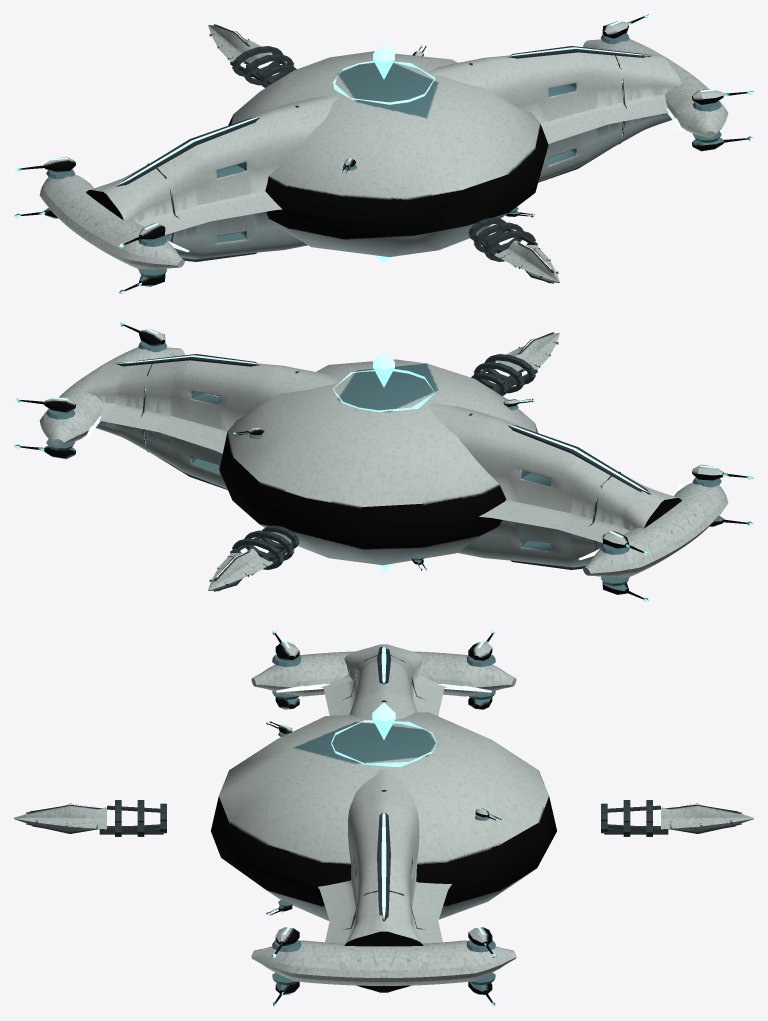
File: Avanti_Shipyard_T1.fbx
3 renders of one model, top to bottom at view 1: azimuth 30°, elevation 25°; view 2: azimuth 150°, elevation 25°; view 3: azimuth 270°, elevation 25°, orthographic. The views are drawn at different scales.
Parts seen in each view (by area): view 1: Hull_LOD0, Turret_01_LOD0, Turret_05_LOD0, Turret_07_LOD0, Turret_03_LOD0, Turret_02_LOD0, Turret_08_LOD0; view 2: Hull_LOD0, Turret_03_LOD0, Turret_07_LOD0, Turret_05_LOD0, Turret_01_LOD0, Turret_04_LOD0, Turret_06_LOD0; view 3: Hull_LOD0, Turret_07_LOD0, Turret_05_LOD0.
Boxes of the visible parts, x1,y1,x2,y2 form: Hull_LOD0: (39, 24, 728, 283); Turret_01_LOD0: (692, 89, 753, 111); Turret_05_LOD0: (14, 156, 75, 179); Turret_07_LOD0: (119, 223, 166, 247); Turret_03_LOD0: (601, 14, 648, 44); Turret_02_LOD0: (692, 131, 753, 151); Turret_08_LOD0: (119, 268, 166, 293); Hull_LOD0: (39, 332, 728, 591); Turret_03_LOD0: (14, 397, 75, 419); Turret_07_LOD0: (692, 464, 753, 487); Turret_05_LOD0: (601, 531, 648, 555); Turret_01_LOD0: (119, 322, 166, 352); Turret_04_LOD0: (14, 439, 75, 459); Turret_06_LOD0: (601, 576, 648, 601); Hull_LOD0: (14, 644, 753, 992); Turret_07_LOD0: (272, 630, 301, 667); Turret_05_LOD0: (466, 630, 495, 667).
Size of what is drawn, in the model's own units: 10237 by 3400 by 9800.
